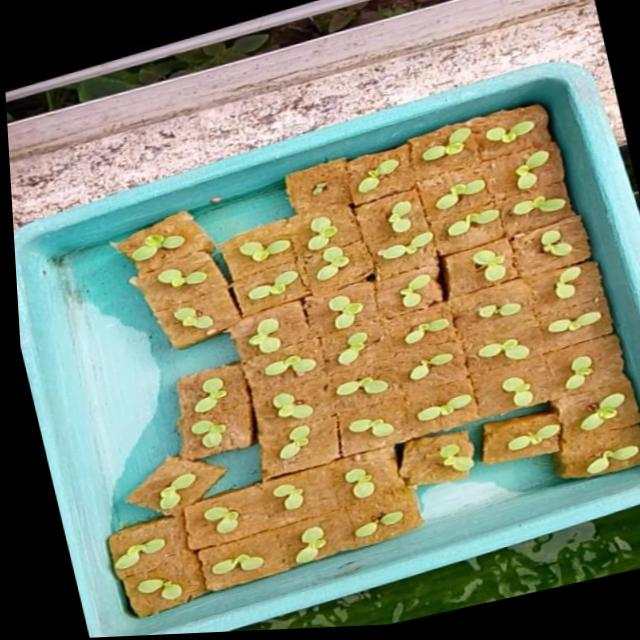Baby: (563, 349, 620, 398), (137, 566, 205, 606), (167, 461, 219, 510), (147, 532, 200, 574), (483, 286, 545, 318), (276, 346, 327, 383), (409, 267, 458, 305), (264, 265, 319, 298), (528, 182, 590, 211), (213, 550, 276, 578), (440, 119, 491, 153), (559, 213, 600, 252), (395, 226, 452, 254), (269, 390, 326, 418), (465, 203, 519, 231), (146, 231, 200, 259), (375, 152, 418, 187), (423, 349, 471, 379), (203, 417, 238, 455), (536, 144, 568, 183), (419, 315, 465, 342), (263, 314, 297, 350), (490, 244, 526, 277), (565, 309, 619, 331), (308, 524, 339, 562), (346, 292, 380, 326), (333, 242, 366, 277), (504, 114, 553, 137), (493, 336, 546, 357), (351, 329, 383, 363), (292, 423, 322, 459), (254, 232, 303, 254), (325, 213, 355, 247), (351, 374, 403, 393), (219, 503, 254, 531), (207, 375, 240, 404), (173, 266, 223, 285), (519, 375, 550, 405), (358, 467, 389, 497), (189, 304, 229, 327), (571, 261, 598, 294), (463, 174, 503, 196), (286, 483, 317, 509), (406, 194, 430, 227), (371, 417, 406, 435)
